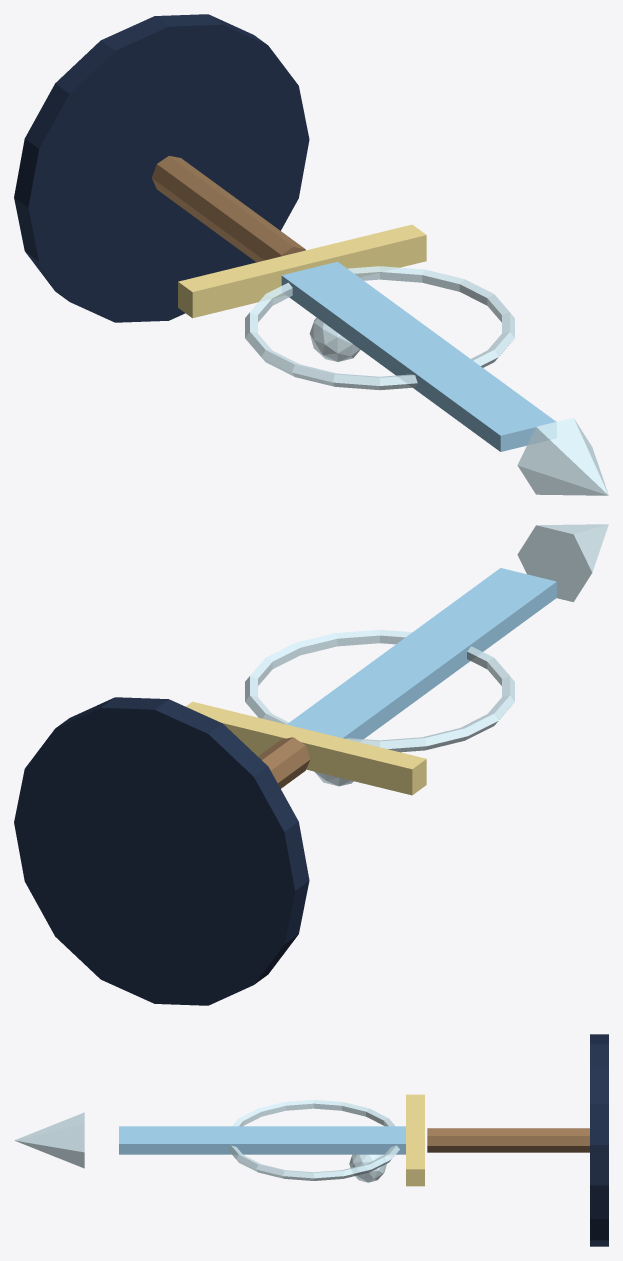
Rendered from 03_high_tier_magic_weapon.glb.
3 renders of one model, top to bottom at view 1: azimuth 30°, elevation 25°; view 2: azimuth 150°, elevation 25°; view 3: azimuth 270°, elevation 25°, orthographic. The views are drawn at different scales.
Visible parts, largest first — view 1: weapon_display_base, magic_blade_or_staff_core, relic_guard, weapon_aura_ring, weapon_grip, weapon_tip, socketed_gem; view 2: weapon_display_base, magic_blade_or_staff_core, relic_guard, weapon_aura_ring, weapon_tip, weapon_grip; view 3: magic_blade_or_staff_core, weapon_grip, weapon_display_base, weapon_aura_ring, weapon_tip, relic_guard, socketed_gem.
Part boxes in pixels (x1=…): weapon_display_base: x1=14, y1=14, x2=309, y2=322; magic_blade_or_staff_core: x1=281, y1=261, x2=556, y2=451; relic_guard: x1=178, y1=224, x2=426, y2=318; weapon_aura_ring: x1=245, y1=266, x2=514, y2=390; weapon_grip: x1=152, y1=156, x2=305, y2=262; weapon_tip: x1=517, y1=417, x2=608, y2=495; socketed_gem: x1=309, y1=317, x2=360, y2=361; weapon_display_base: x1=14, y1=697, x2=309, y2=1005; magic_blade_or_staff_core: x1=287, y1=568, x2=556, y2=741; relic_guard: x1=186, y1=701, x2=426, y2=795; weapon_aura_ring: x1=245, y1=629, x2=514, y2=752; weapon_tip: x1=517, y1=524, x2=608, y2=602; weapon_grip: x1=258, y1=737, x2=310, y2=788; magic_blade_or_staff_core: x1=119, y1=1126, x2=405, y2=1154; weapon_grip: x1=427, y1=1128, x2=589, y2=1152; weapon_display_base: x1=590, y1=1034, x2=608, y2=1246; weapon_aura_ring: x1=227, y1=1100, x2=399, y2=1180; weapon_tip: x1=14, y1=1112, x2=84, y2=1168; relic_guard: x1=406, y1=1094, x2=424, y2=1186; socketed_gem: x1=349, y1=1154, x2=386, y2=1182.
Size of the model in its own units: 0.9 by 0.9 by 2.52.
